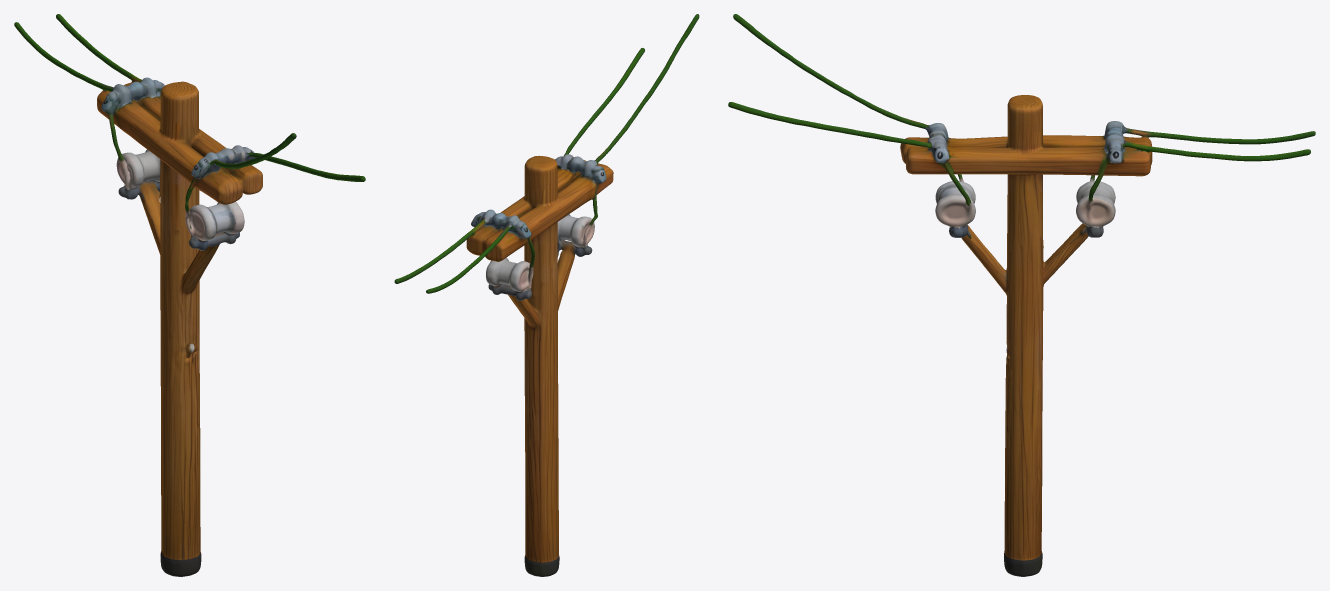
File: power_pole.glb
3 views of the same model, side by side, from view 1: azimuth 30°, elevation 25°; view 2: azimuth 150°, elevation 25°; view 3: azimuth 270°, elevation 25° (orthographic). The views are drawn at different scales.
Visible parts, largest first — view 1: tripo_node_9744f6ce-e2b4-4241-9c4c-b51fede44c8b; view 2: tripo_node_9744f6ce-e2b4-4241-9c4c-b51fede44c8b; view 3: tripo_node_9744f6ce-e2b4-4241-9c4c-b51fede44c8b.
Part boxes in pixels (x1,y1,x2,y2): tripo_node_9744f6ce-e2b4-4241-9c4c-b51fede44c8b: [14, 14, 365, 576]; tripo_node_9744f6ce-e2b4-4241-9c4c-b51fede44c8b: [394, 14, 699, 576]; tripo_node_9744f6ce-e2b4-4241-9c4c-b51fede44c8b: [728, 14, 1315, 576].
Bounding box in the file's own units: 0.1279 × 0.9484 × 0.9364.
Materials: 1 (1 with a texture image).
